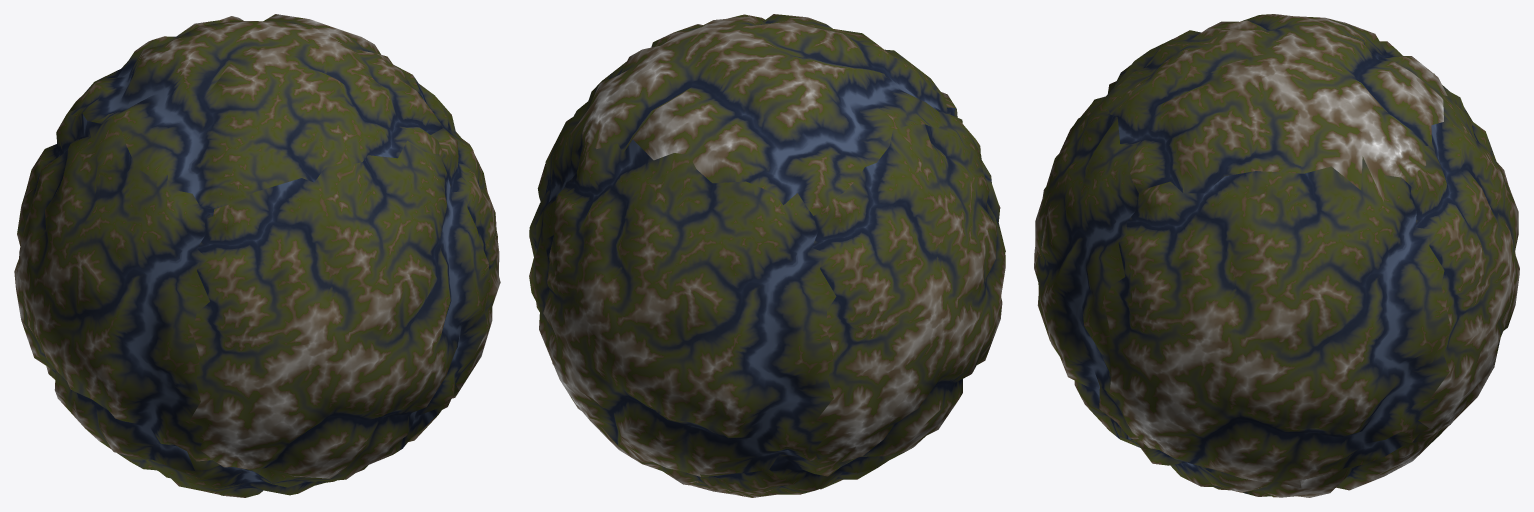
File: greenplanet.glb
3 views of the same model, side by side, from view 1: azimuth 30°, elevation 25°; view 2: azimuth 150°, elevation 25°; view 3: azimuth 270°, elevation 25° (orthographic).
Parts seen in each view (by area): view 1: Planet; view 2: Planet; view 3: Planet.
Part boxes in pixels (x1,y1,x2,y2): Planet: (14,14,500,497); Planet: (529,14,1005,497); Planet: (1034,14,1519,497).
Size of the model in its own units: 11.8 by 11.8 by 11.8.
Materials: 1 (1 with a texture image).
